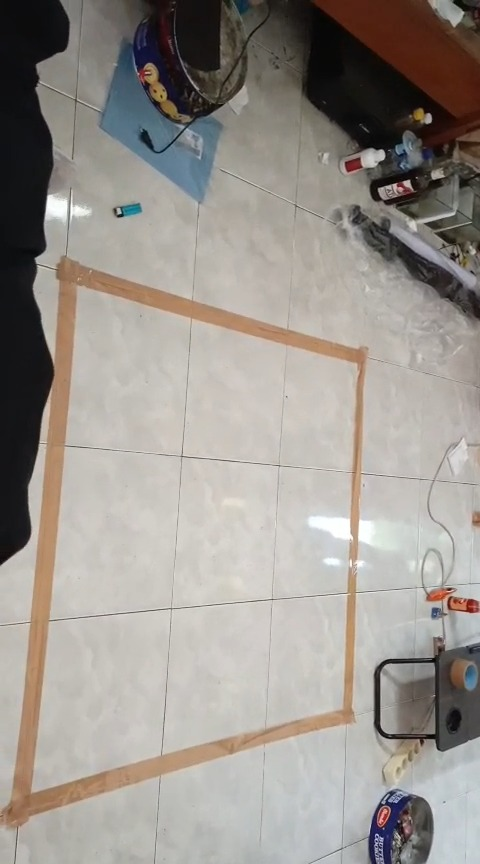floor marking: (0, 257, 366, 825)
